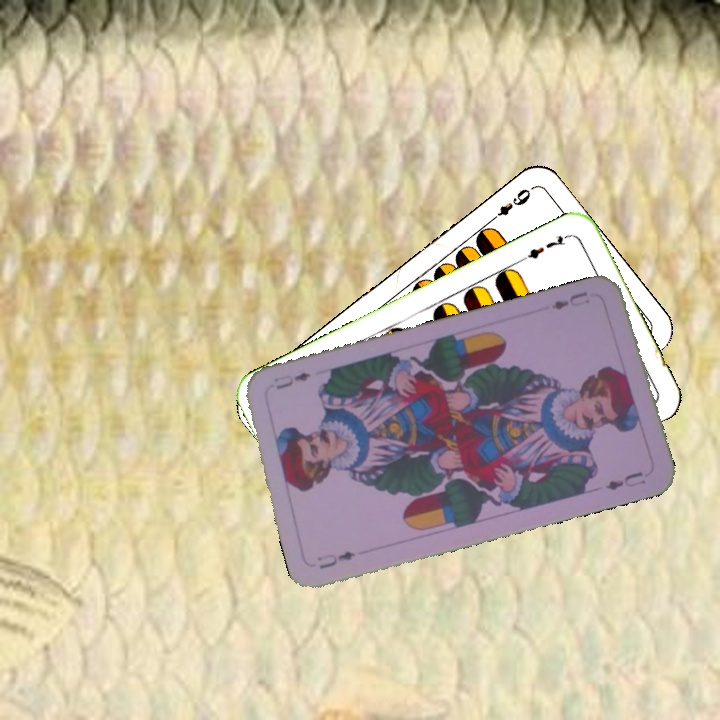E7: (518, 230, 573, 264)
E9: (485, 184, 534, 225)
EU: (547, 288, 593, 313), (313, 547, 358, 572)
